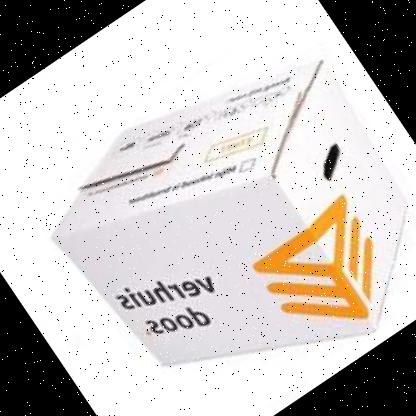box: (51, 58, 407, 366)
normal_hole: (322, 143, 340, 182)
